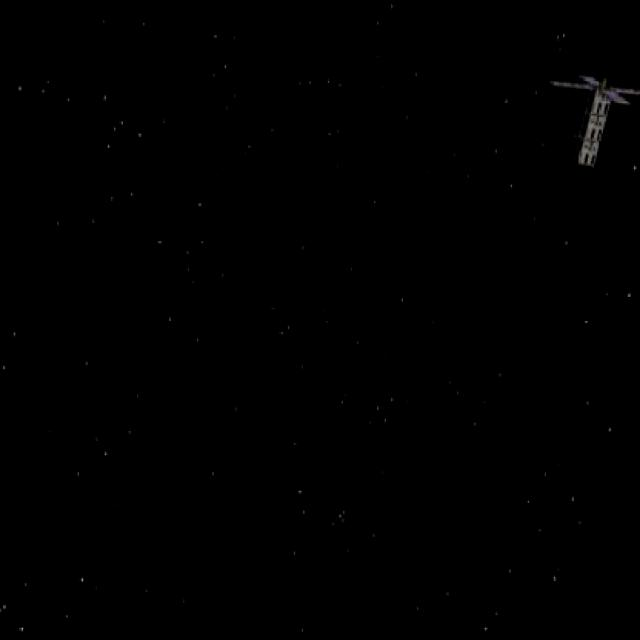medium_debris: (542, 62, 640, 169)
